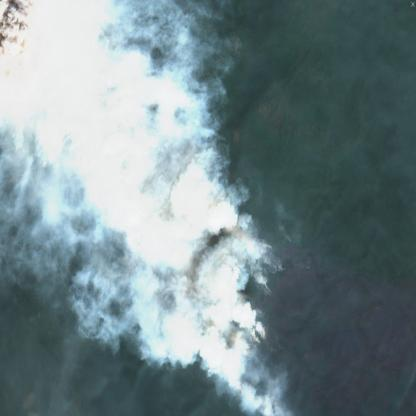fire: (136, 193, 289, 416), (9, 49, 120, 136)
